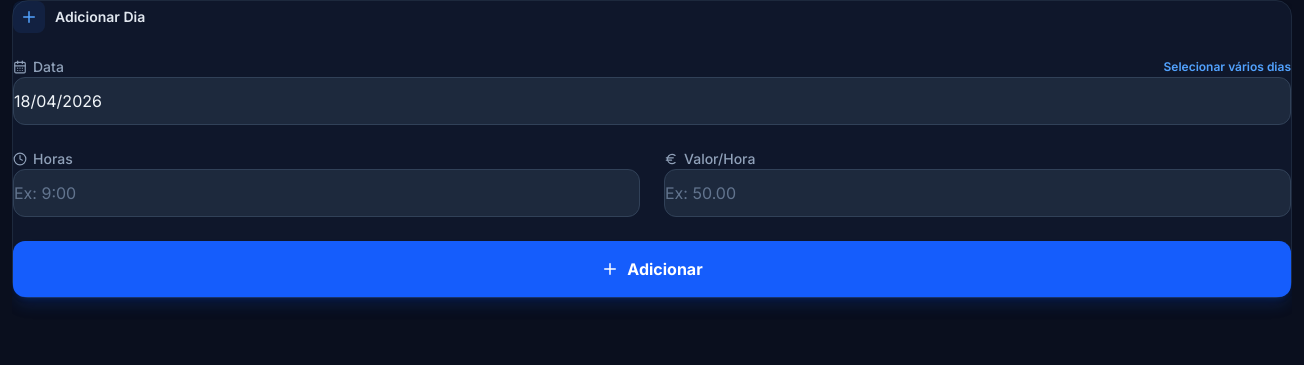
AddEntryCard (unit) › should show error when hours are empty
Type "50" into the number field with placeholder "Ex: 50.00". click: (978, 193)
box: 664,169 -> 1291,217
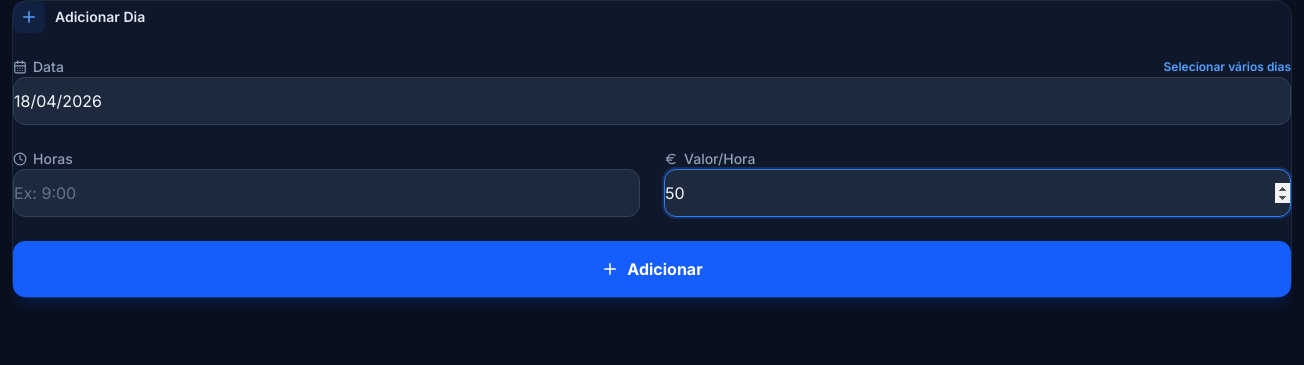
Click the button "Adicionar". click: click(652, 269)
box: 13,241 -> 1291,297
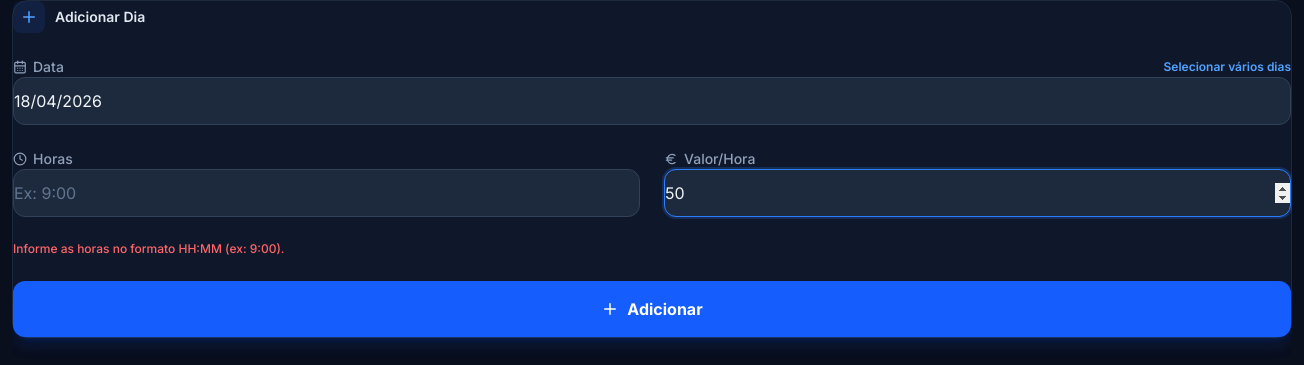
Check: the text "Informe as horas no formato HH:MM (ex: 9:00)." is shown, box 13,241 -> 284,256
